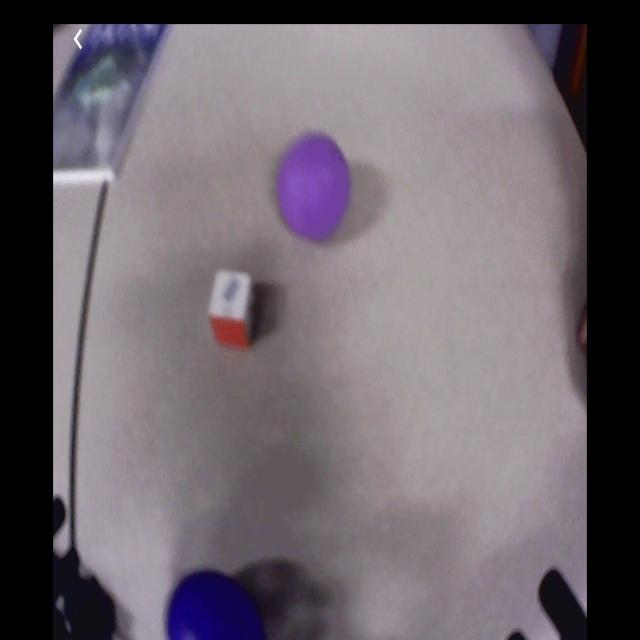ball: (273, 131, 352, 245), (165, 572, 264, 640)
